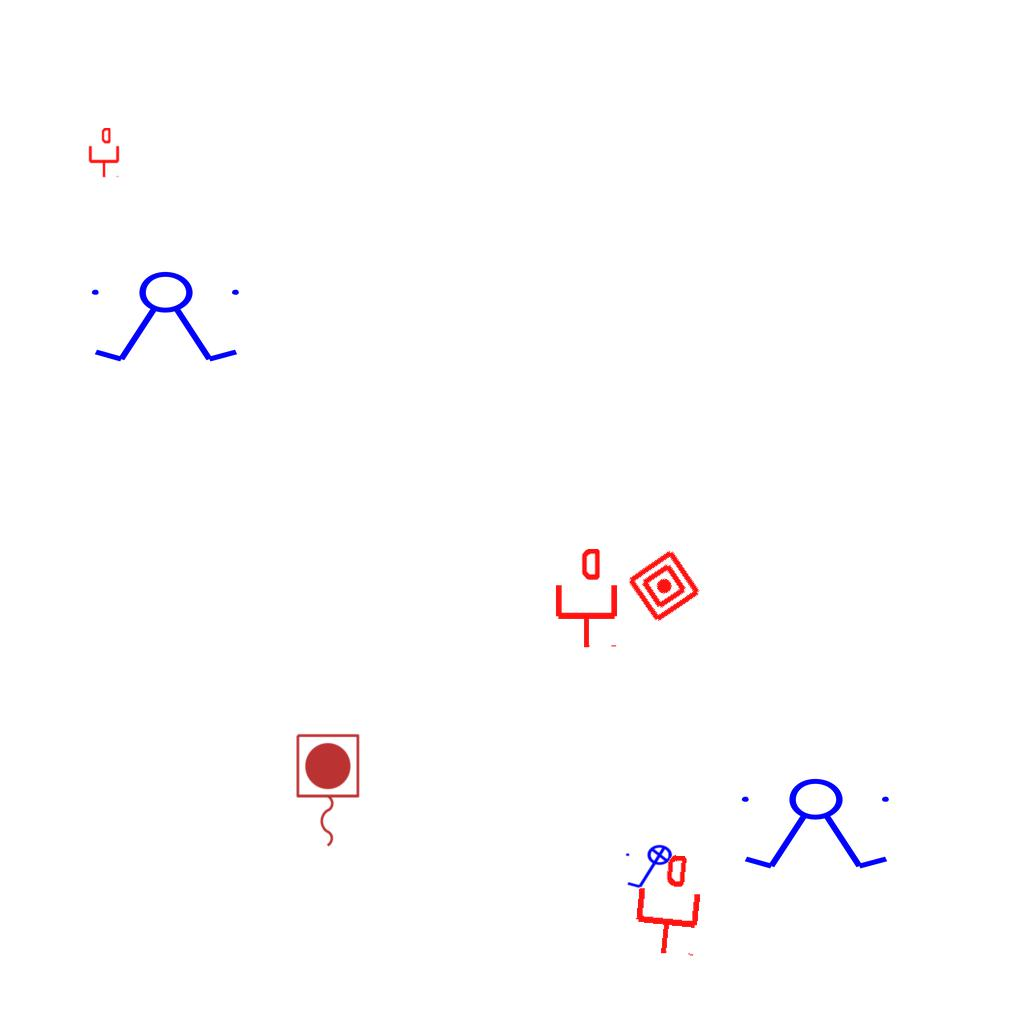Ausschalter_beleuchtet: (623, 844, 679, 892)
Datenanschluss_einfach: (628, 851, 709, 959), (552, 549, 621, 649), (87, 128, 121, 178)
NAM-Nichtautomatischer_Melder: (625, 547, 703, 625)
Serienschalter: (733, 777, 901, 873), (83, 270, 251, 366)
Zugtaster: (291, 730, 363, 852)
